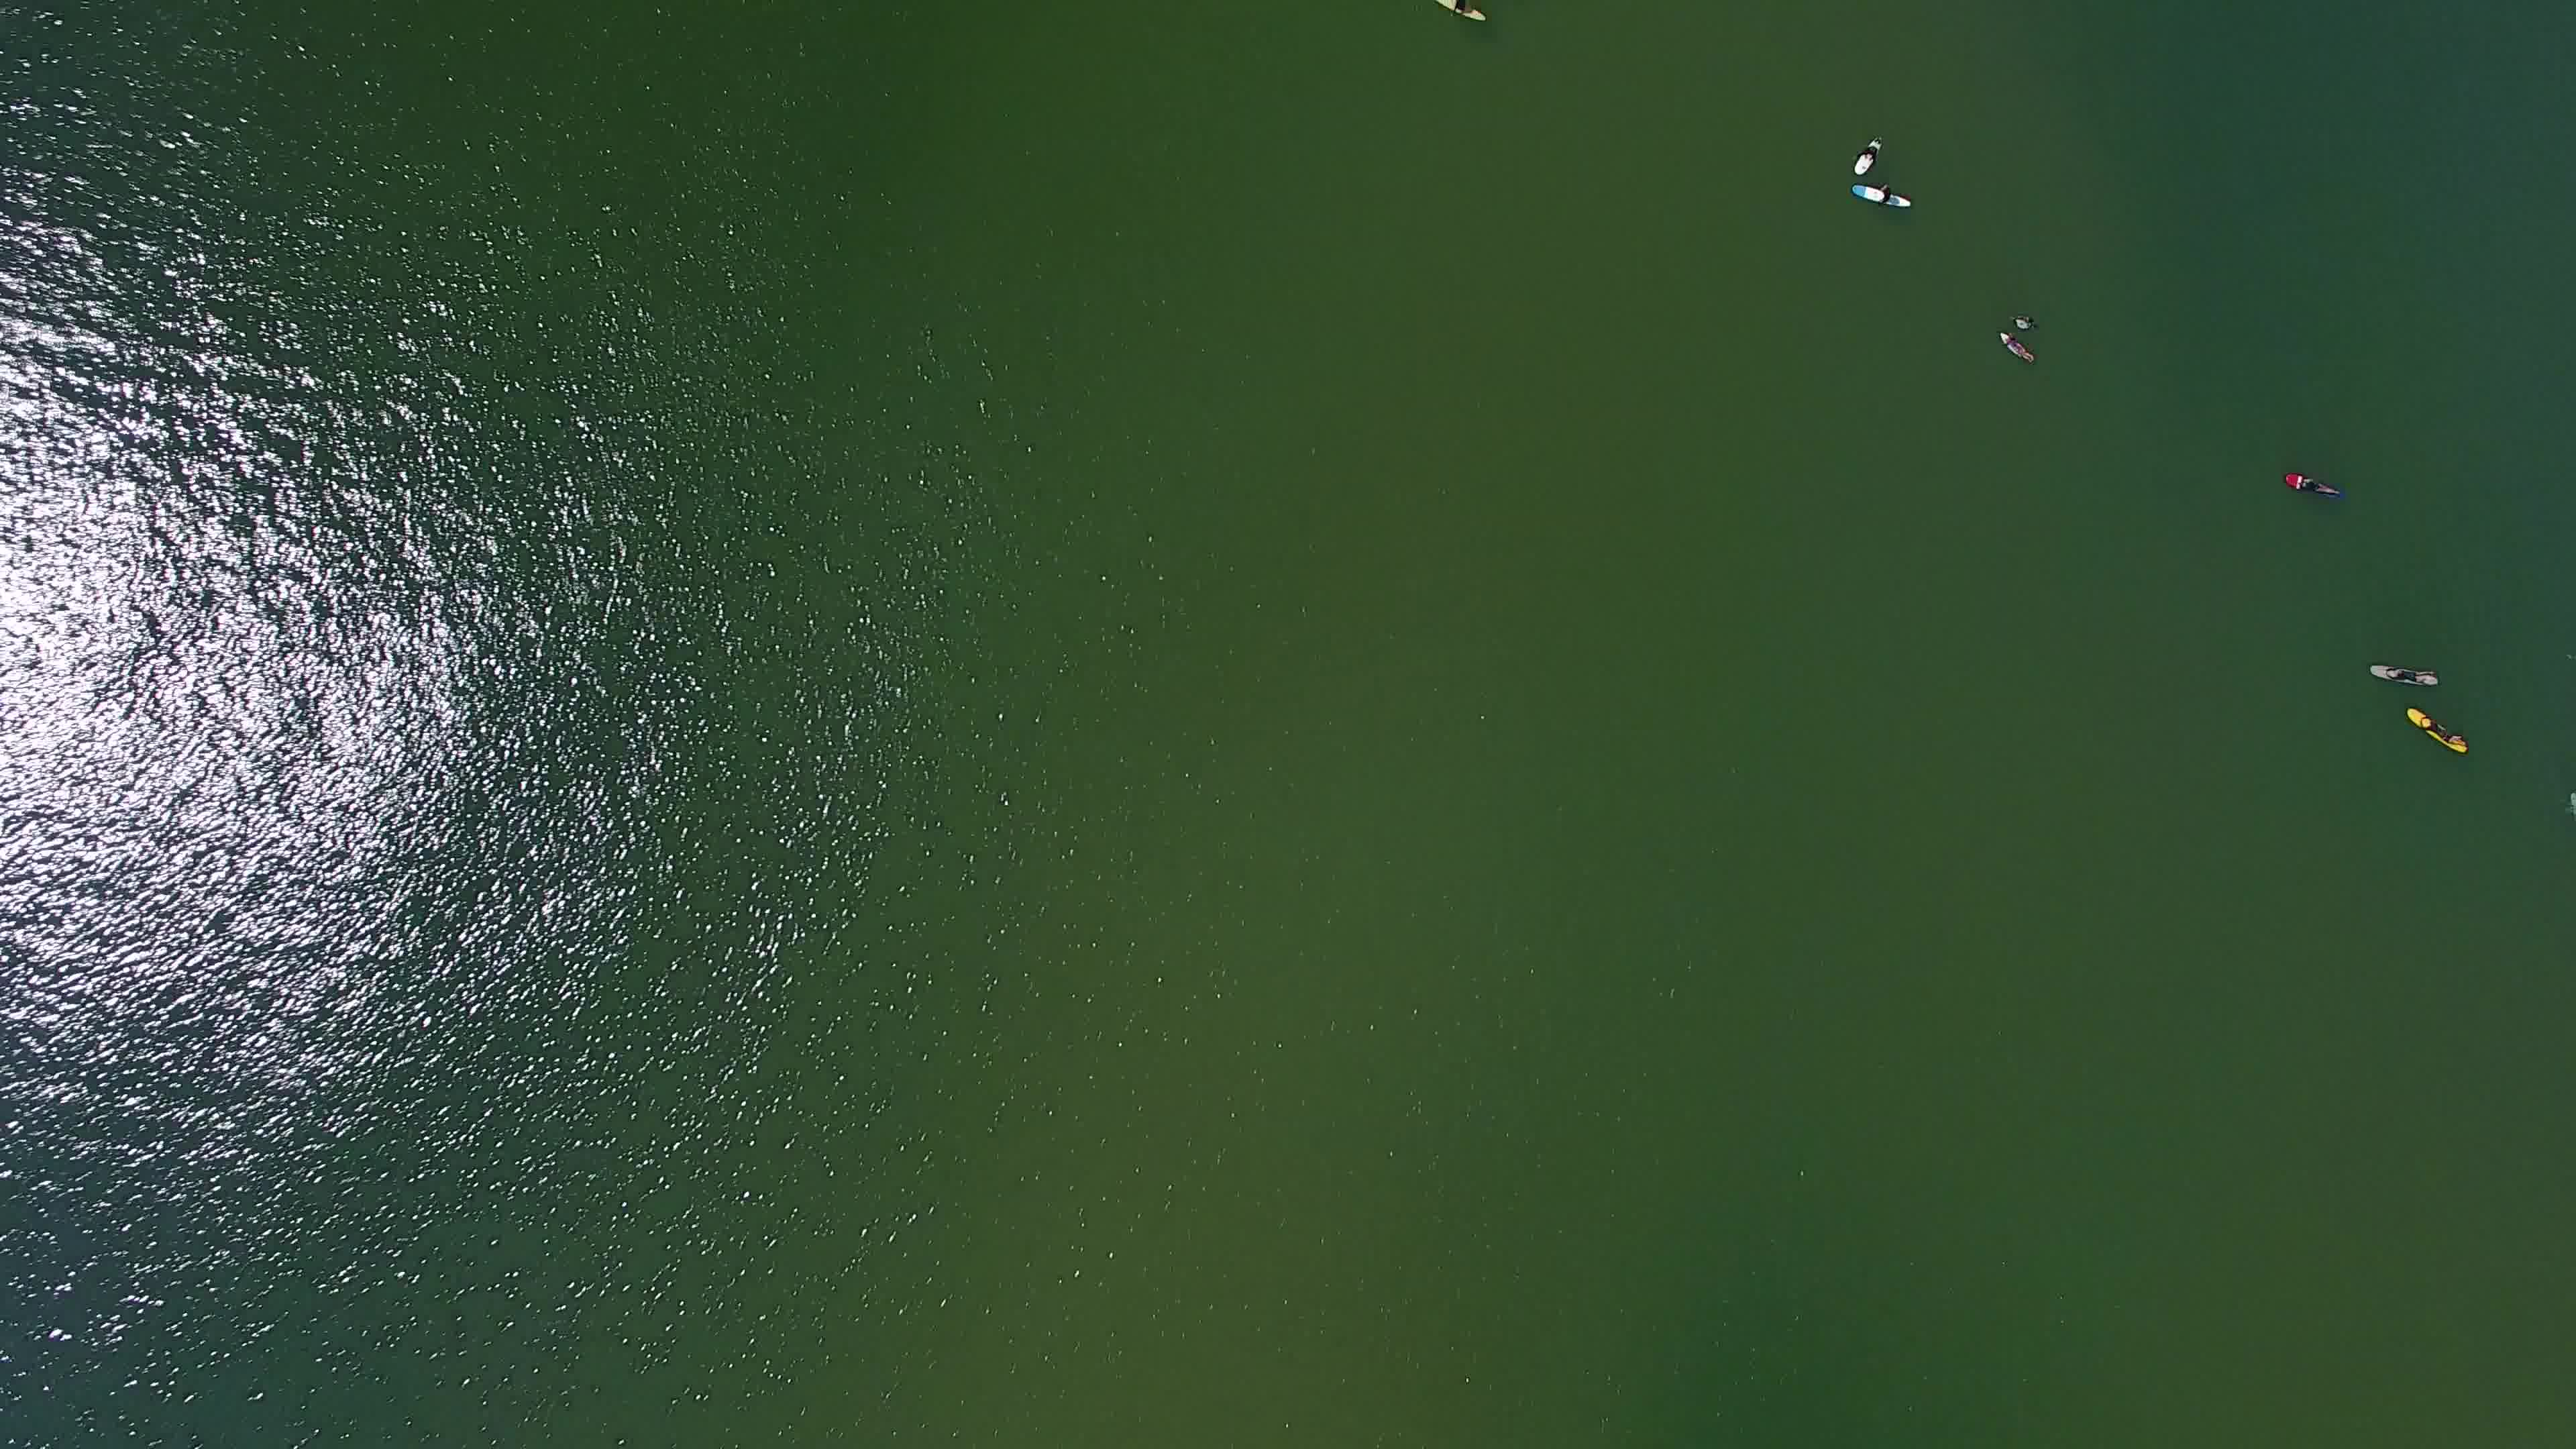surfer: (2394, 702, 2479, 761), (2270, 462, 2362, 511), (1844, 133, 1890, 186), (1990, 326, 2042, 372), (1849, 184, 1921, 216), (2371, 667, 2445, 692), (1426, 0, 1495, 23), (2010, 306, 2042, 331)
